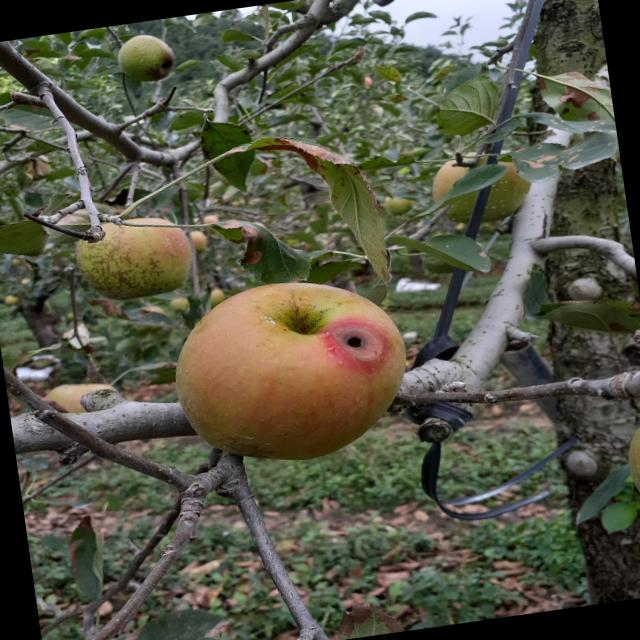rotten: (146, 261, 426, 482)
